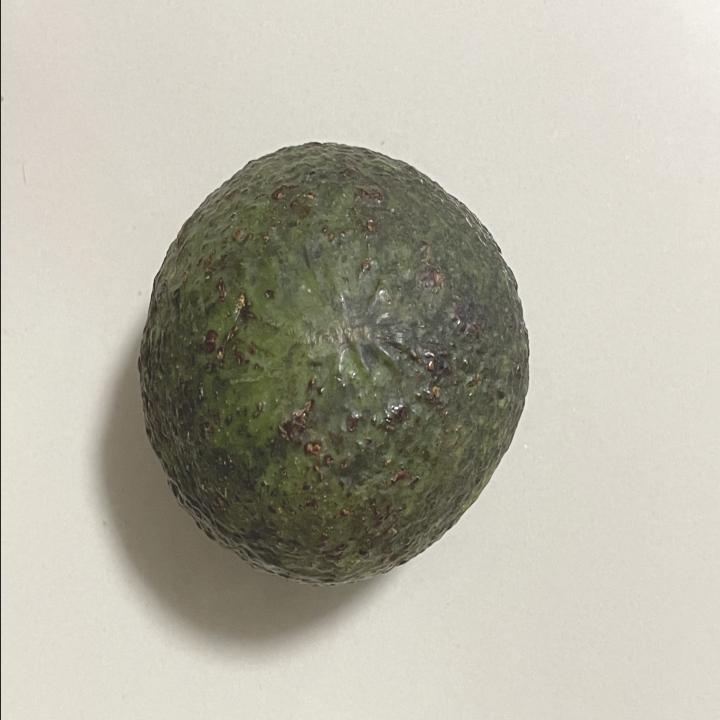Level1: (124, 119, 542, 603)
